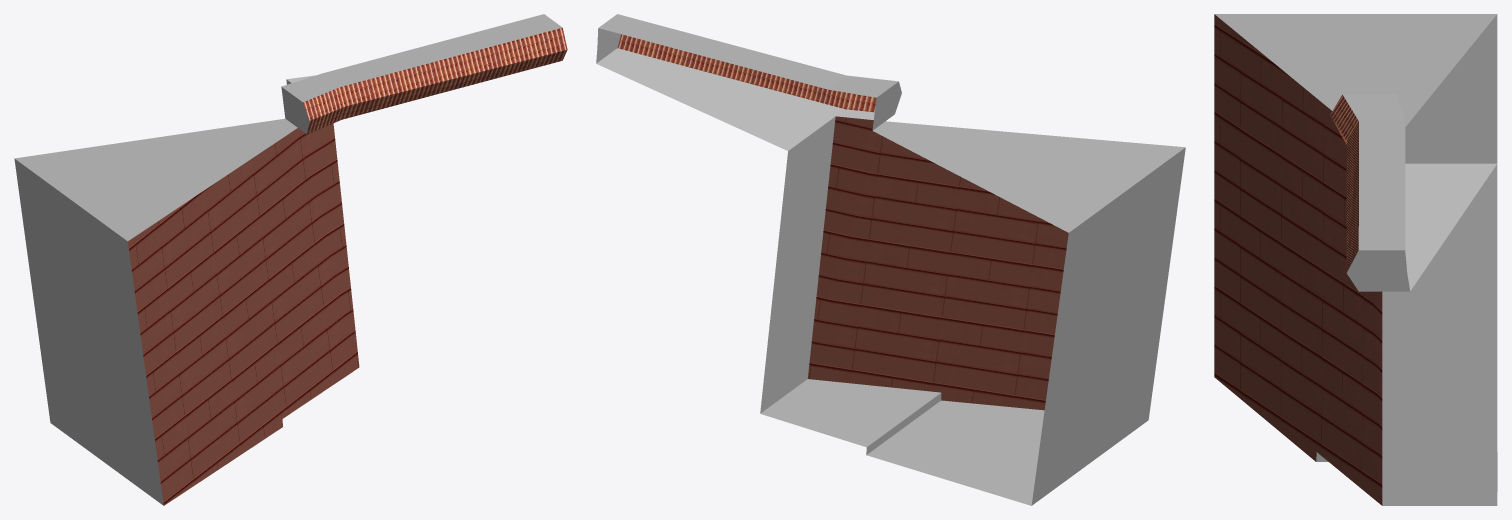
Rendered from Toom-Kooli_5_2.obj.
3 renders of one model, left to right at view 1: azimuth 30°, elevation 25°; view 2: azimuth 150°, elevation 25°; view 3: azimuth 270°, elevation 25°, orthographic. The views are drawn at different scales.
Parts seen in each view (by area): view 1: Toom_Kooli_5_2; view 2: Toom_Kooli_5_2; view 3: Toom_Kooli_5_2.
Part boxes in pixels (box(x1,y1,x2,y2)): Toom_Kooli_5_2: box(14, 14, 567, 505); Toom_Kooli_5_2: box(596, 14, 1185, 505); Toom_Kooli_5_2: box(1214, 14, 1497, 505).
Bounding box in the file's own units: 15.58 × 9.8 × 6.22.
